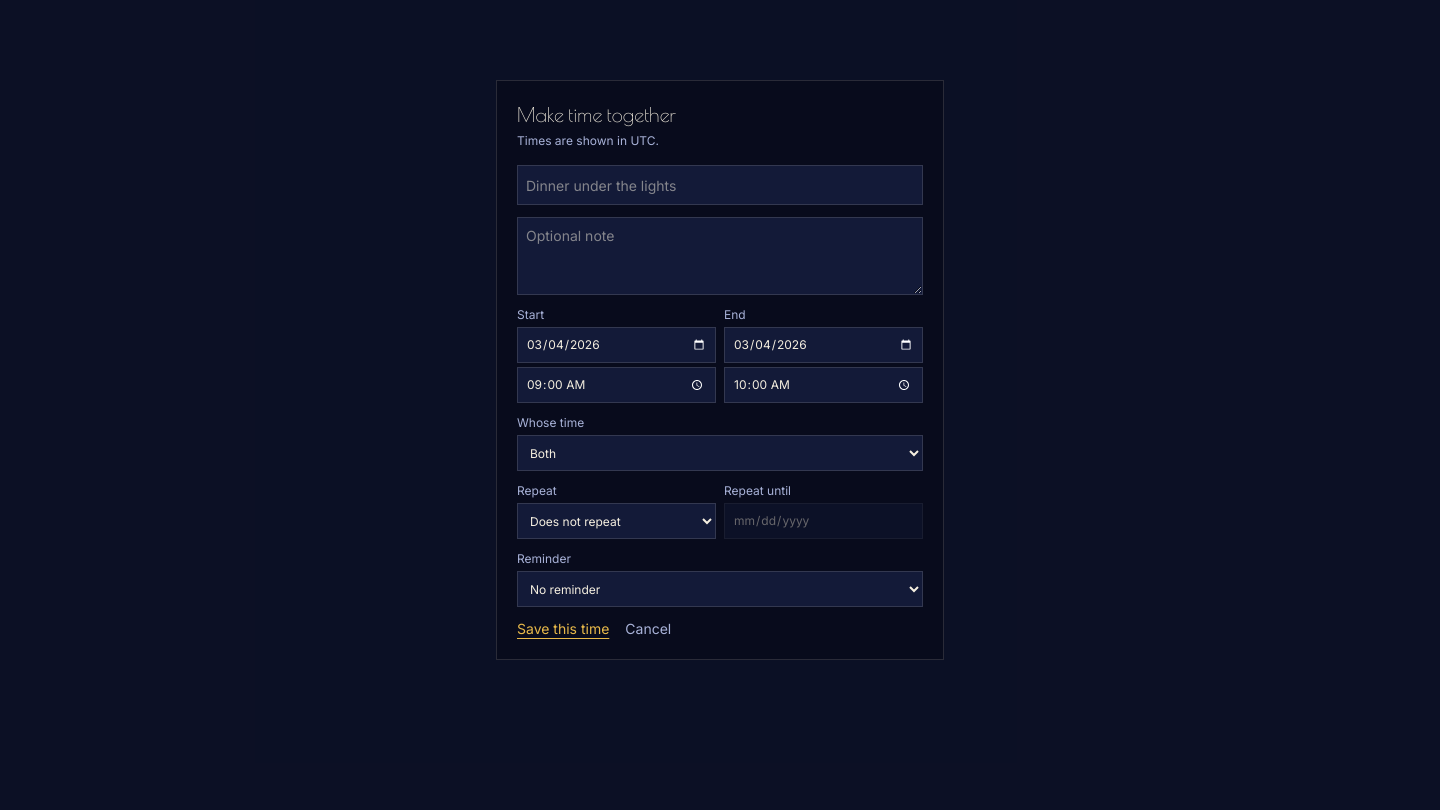
Test case: BlockEditor › refuses an end before its start without saving
Replace the text in the time field named "End time" with "08:00" at (824, 385), box [724,367,923,403]
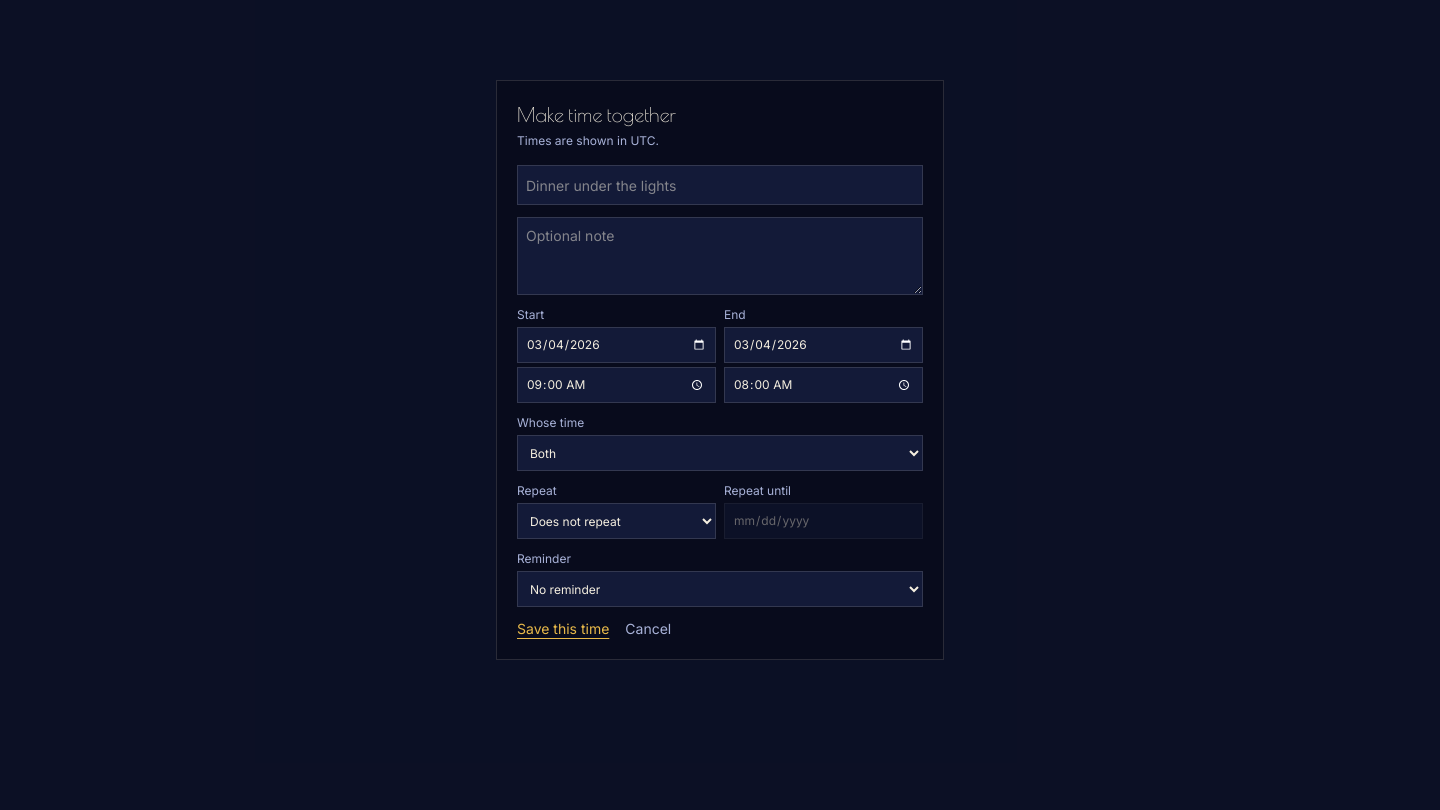
Submit the form "Save this time", box [517,165,923,639]
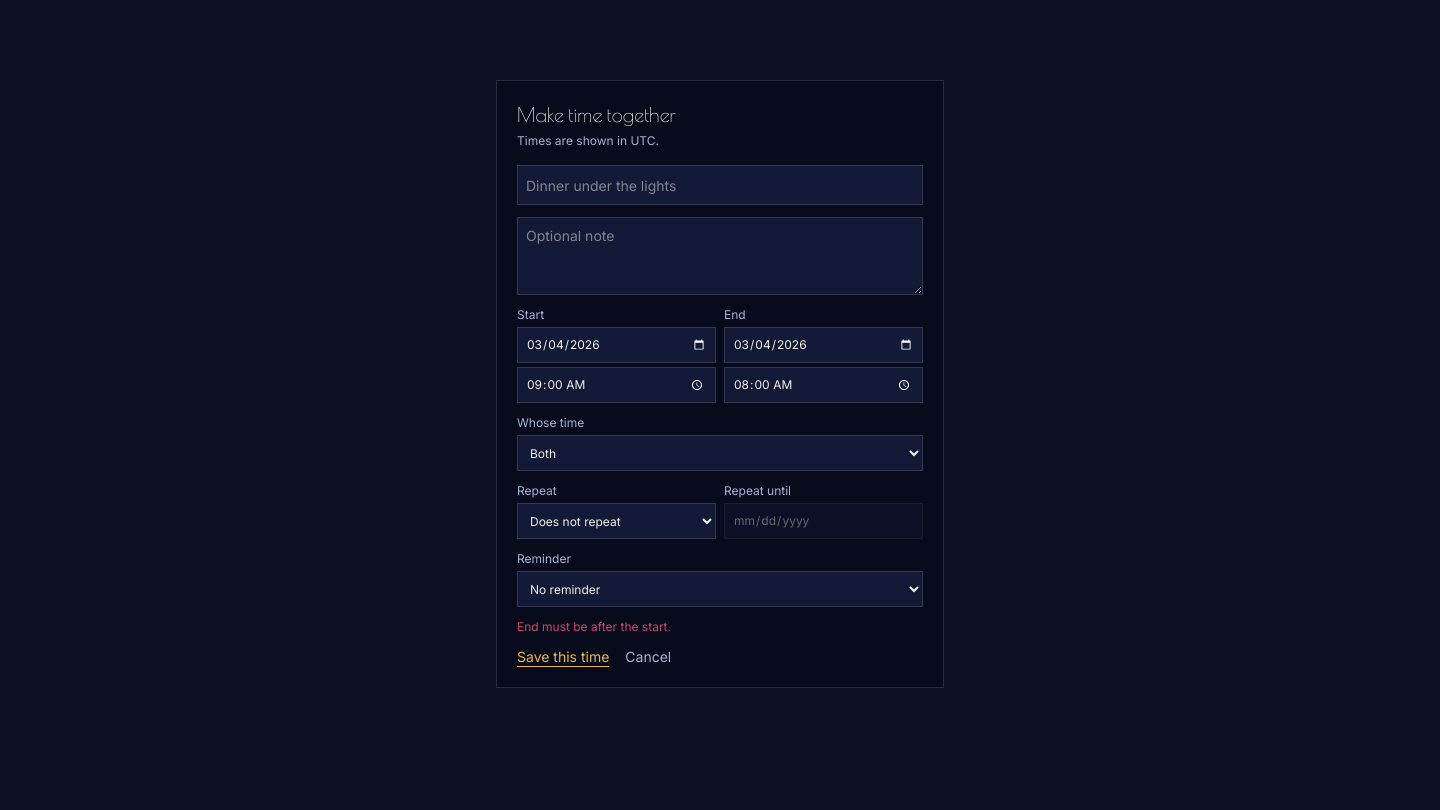
Check: the message reads "End must be after the start.", box [517,619,671,634]
